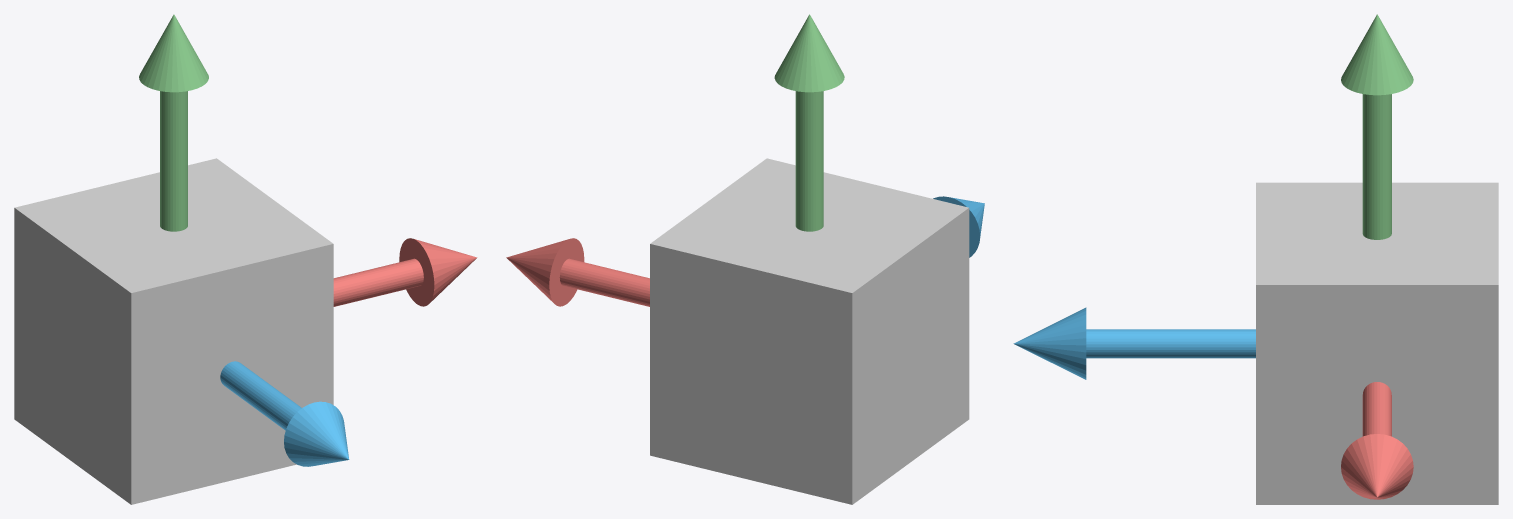
File: axis-cube.glb
3 renders of one model, left to right at view 1: azimuth 30°, elevation 25°; view 2: azimuth 150°, elevation 25°; view 3: azimuth 270°, elevation 25°, orthographic. The views are drawn at different scales.
Visible parts, largest first — view 1: cube, arrow_y, arrow_z, arrow_x; view 2: cube, arrow_y, arrow_x, arrow_z; view 3: cube, arrow_z, arrow_y, arrow_x.
Boxes of the visible parts, box(x1,y1,x2,y2) form: cube: box(14, 158, 333, 504); arrow_y: box(139, 14, 208, 231); arrow_z: box(220, 361, 349, 466); arrow_x: box(333, 238, 477, 306); cube: box(650, 158, 969, 504); arrow_y: box(774, 14, 844, 231); arrow_x: box(506, 238, 649, 306); arrow_z: box(933, 196, 984, 257); cube: box(1256, 182, 1498, 504); arrow_z: box(1013, 307, 1255, 379); arrow_y: box(1341, 14, 1413, 239); arrow_x: box(1341, 382, 1413, 499).
Bounding box in the file's own units: 0.2 × 0.2 × 0.2.
